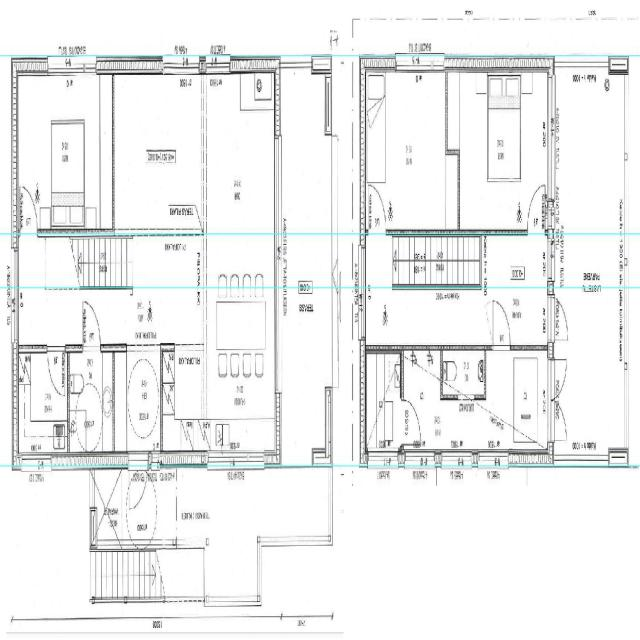door: (550, 302, 569, 396), (489, 295, 513, 353), (18, 180, 41, 239), (46, 343, 68, 399), (81, 297, 103, 352), (400, 394, 422, 448), (526, 182, 548, 235), (367, 181, 388, 235), (549, 295, 570, 348), (550, 353, 569, 401), (551, 397, 569, 446)
window: (45, 55, 96, 83), (272, 287, 284, 401), (545, 76, 555, 205), (272, 129, 284, 231), (395, 52, 433, 78), (279, 50, 314, 76), (237, 450, 267, 478), (366, 448, 398, 471), (160, 50, 188, 74), (19, 452, 50, 473), (207, 53, 232, 76)
zone: (447, 68, 551, 234), (16, 71, 113, 230), (112, 69, 206, 233), (552, 69, 626, 275), (364, 68, 452, 235), (554, 287, 626, 462), (204, 74, 277, 245), (206, 287, 277, 459), (17, 348, 68, 458), (68, 349, 116, 455), (162, 345, 205, 457), (401, 348, 443, 451), (482, 233, 550, 296), (365, 352, 403, 461), (125, 347, 161, 451), (512, 349, 548, 448), (624, 57, 640, 254), (441, 346, 486, 402)
